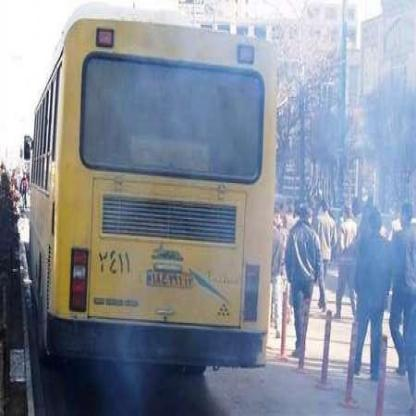Bus: (25, 8, 276, 392)
